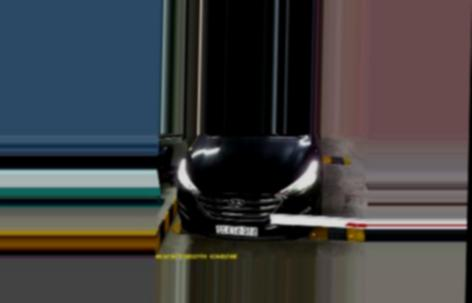License_Plate: (216, 222, 261, 237)
